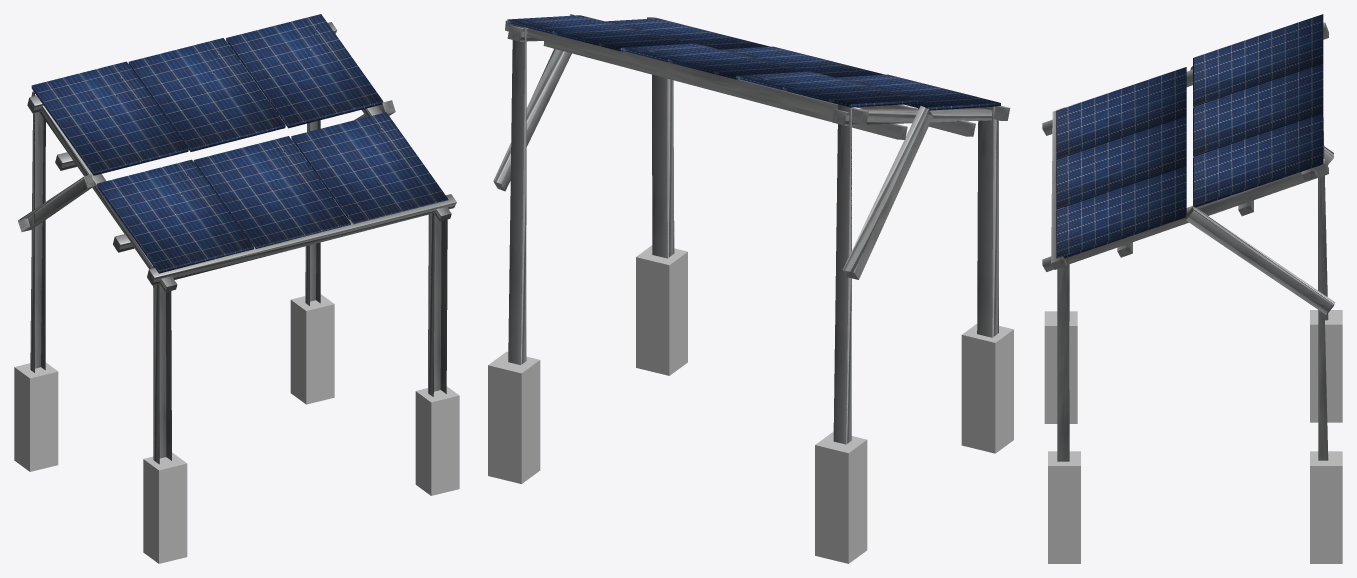
File: six panel  with 4 legs .fbx
3 views of the same model, side by side, from view 1: azimuth 30°, elevation 25°; view 2: azimuth 150°, elevation 25°; view 3: azimuth 270°, elevation 25° (orthographic). The views are drawn at different scales.
Visible parts, largest first — view 1: panel2.001, panel6.001, panel5.001, panel3.001, panel.001, panel4.001, Cube, Cube.012, Cube.011, Cube.010, Cube.005, Cube.027 (+9 smaller); view 2: Cube.011, Cube.012, Cube, Cube.010, Cube.015, Cube.005, Cube.018, Cube.009, Cube.027, Cube.007, panel.001, panel3.001 (+8 smaller); view 3: panel3.001, panel6.001, panel5.001, panel2.001, panel.001, panel4.001, Cube.011, Cube.010, Cube.012, Cube.008, Cube, Cube.003 (+4 smaller).
Part boxes in pixels (<box>): panel2.001: <box>128,38,285,148</box>; panel6.001: <box>291,112,447,222</box>; panel5.001: <box>193,136,350,246</box>; panel3.001: <box>226,14,382,124</box>; panel.001: <box>31,61,188,172</box>; panel4.001: <box>97,159,253,270</box>; Cube: <box>143,452,187,563</box>; Cube.012: <box>14,362,58,471</box>; Cube.011: <box>290,294,334,404</box>; Cube.010: <box>415,386,459,495</box>; Cube.005: <box>30,91,45,372</box>; Cube.027: <box>428,213,447,396</box>; Cube.011: <box>488,351,540,483</box>; Cube.012: <box>815,431,867,563</box>; Cube: <box>961,324,1013,453</box>; Cube.010: <box>636,245,687,375</box>; Cube.015: <box>508,24,526,365</box>; Cube.005: <box>833,104,851,444</box>; Cube.018: <box>977,106,998,337</box>; Cube.009: <box>505,20,868,124</box>; Cube.027: <box>652,74,674,258</box>; Cube.007: <box>843,106,933,279</box>; panel.001: <box>737,71,922,107</box>; panel3.001: <box>507,15,692,50</box>; panel3.001: <box>1194,113,1323,204</box>; panel6.001: <box>1057,166,1186,257</box>; panel5.001: <box>1057,116,1186,207</box>; panel2.001: <box>1194,64,1323,154</box>; panel.001: <box>1194,14,1323,105</box>; panel4.001: <box>1057,67,1186,158</box>; Cube.011: <box>1310,451,1342,563</box>; Cube.010: <box>1048,451,1080,563</box>; Cube.012: <box>1310,310,1342,422</box>; Cube.008: <box>1185,206,1335,314</box>; Cube: <box>1044,311,1077,423</box>; Cube.003: <box>1042,158,1328,271</box>.
Size of the model in its own units: 258 by 306 by 209.
